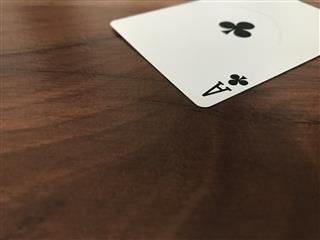AceOfClubs: (109, 1, 320, 107)
